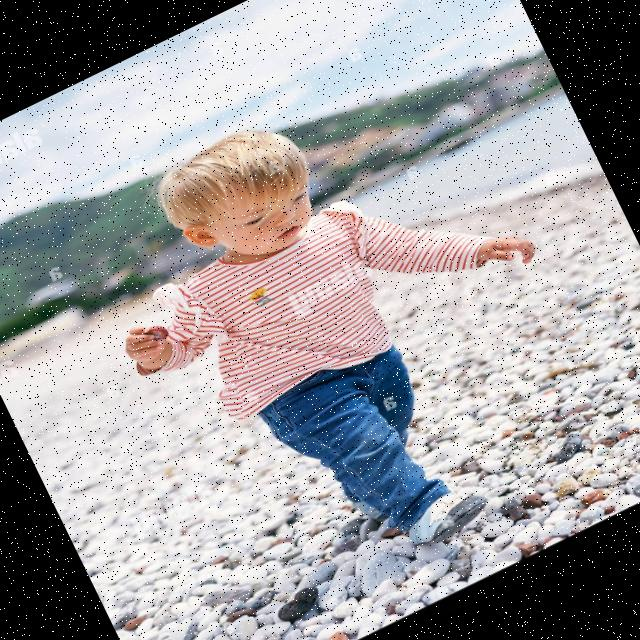Person: (62, 35, 630, 623)
